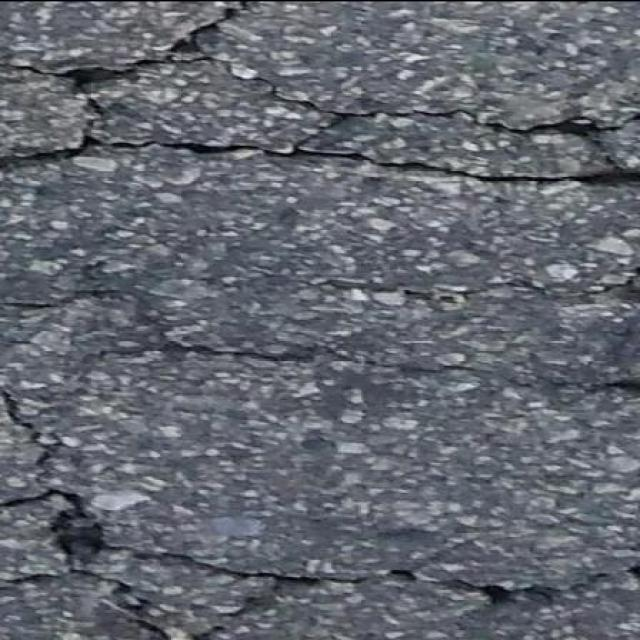Crack: (0, 486, 384, 612), (0, 0, 252, 168), (0, 276, 439, 365), (158, 106, 640, 185), (1, 362, 63, 459), (326, 280, 484, 298), (271, 77, 334, 110), (472, 581, 541, 594), (581, 275, 639, 290), (600, 370, 639, 390), (632, 251, 640, 267)
